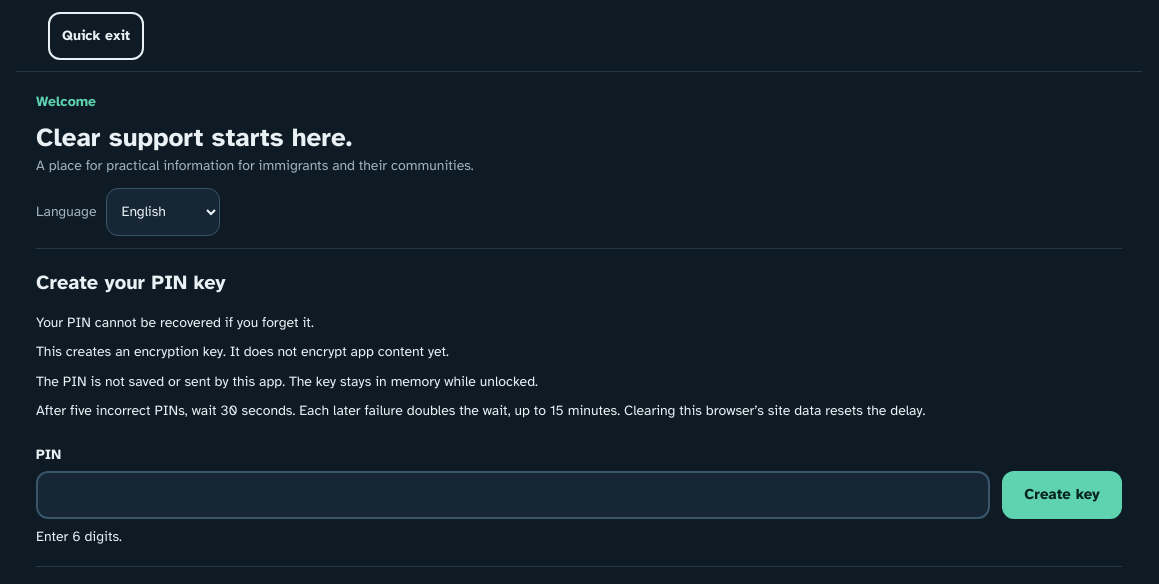
App › keeps the verifier route out of the tab bar
The width and height of the screenshot is (1159, 584).
Type "123456" into the password field labelled "PIN". click: (513, 494)
box: [36,470,990,518]
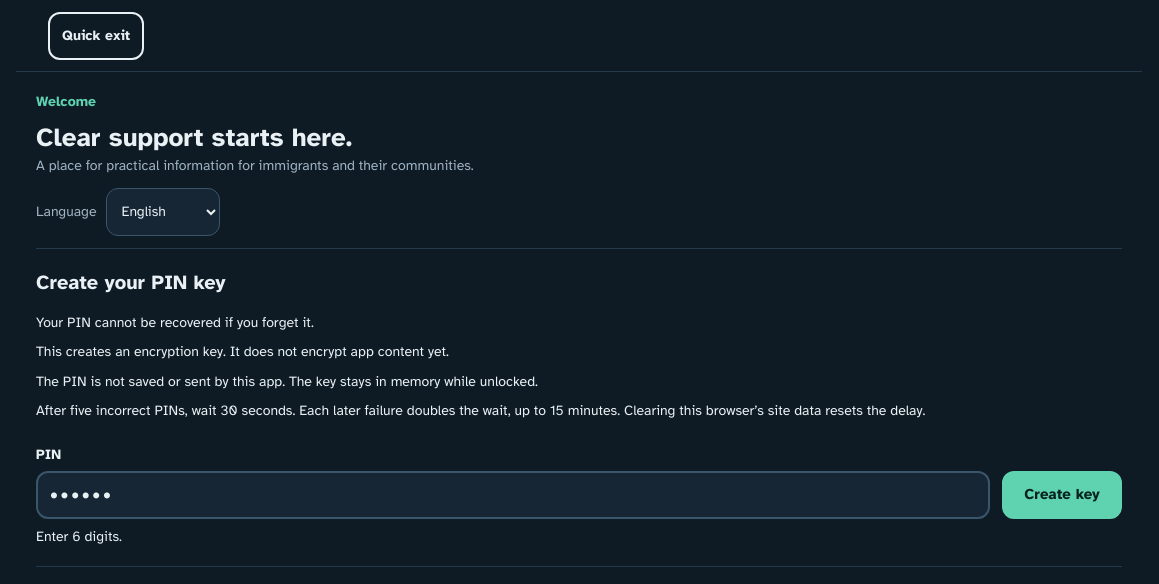
Click the button "Create key". click: click(1062, 494)
box: [1002,470,1122,518]
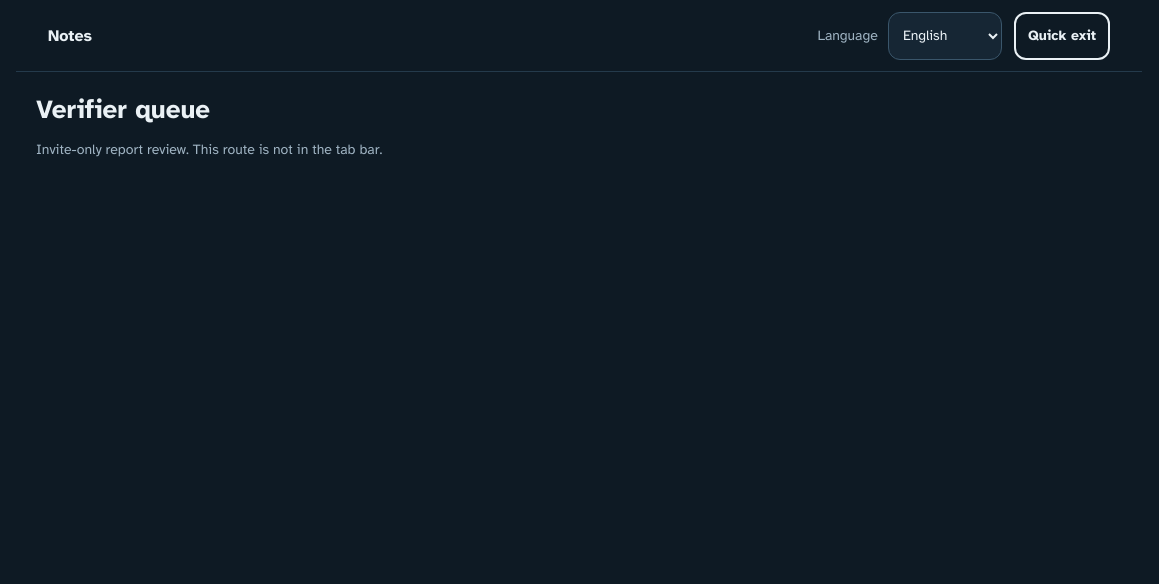
Result: the heading "Verifier queue" is shown at [36,93,210,126]
